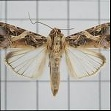Spodoptera litura: (0, 11, 111, 97)
